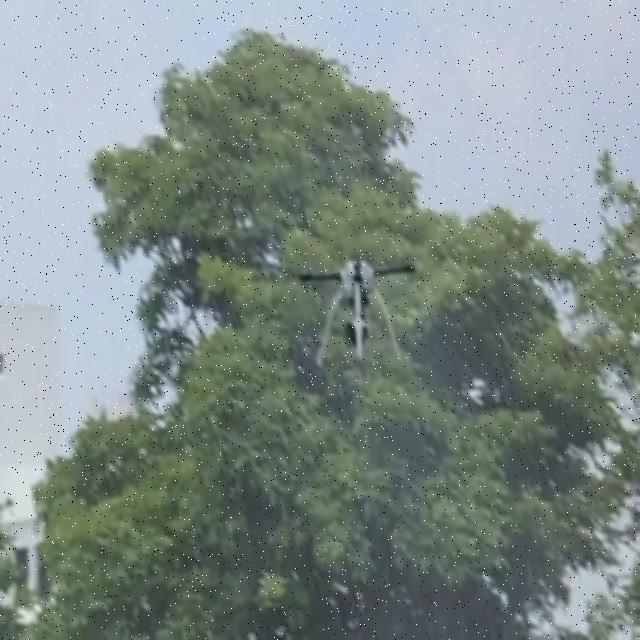UAV: (299, 259, 415, 368)
